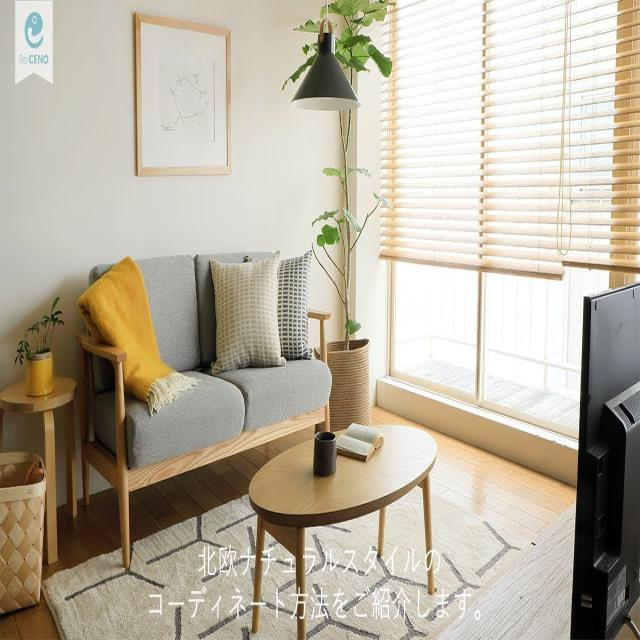natural desk: (253, 423, 442, 624)
natural sofa: (79, 245, 333, 560)
